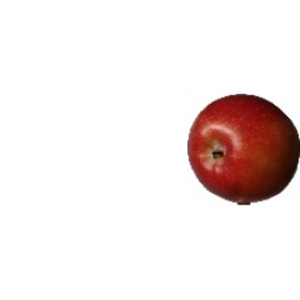maçã braeburn: (186, 90, 300, 206)
